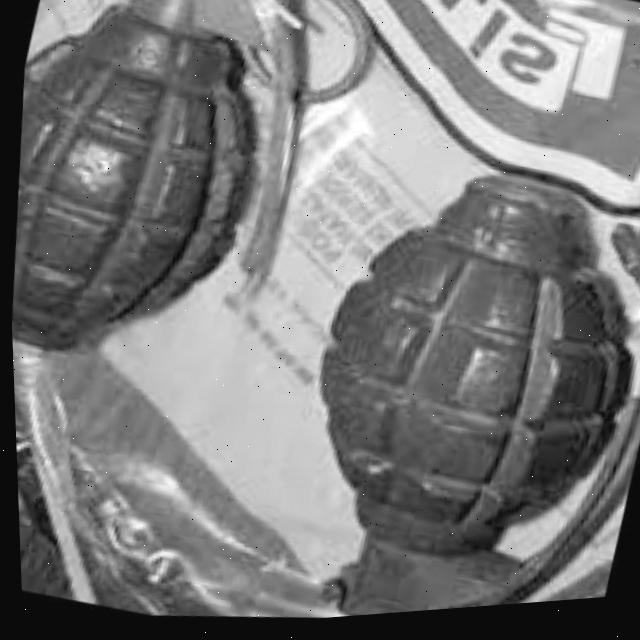grenade: (232, 123, 640, 627), (0, 0, 397, 449)
